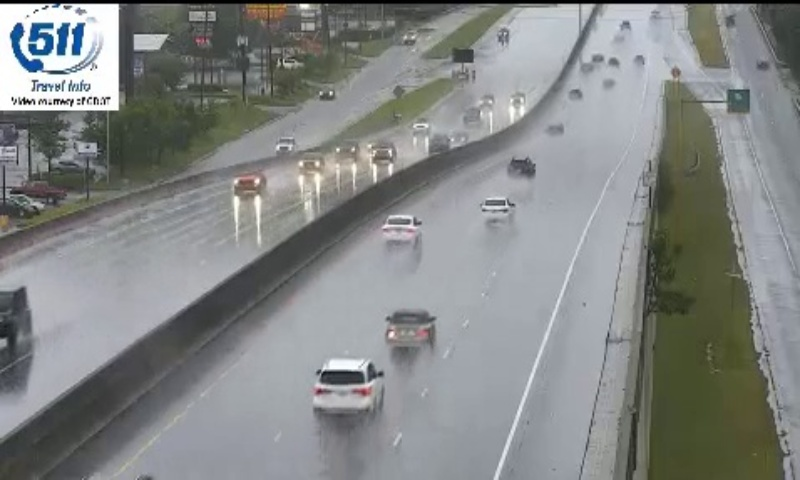car: (312, 358, 381, 415), (384, 308, 436, 352), (379, 215, 420, 247), (479, 196, 513, 222), (508, 154, 533, 179)
